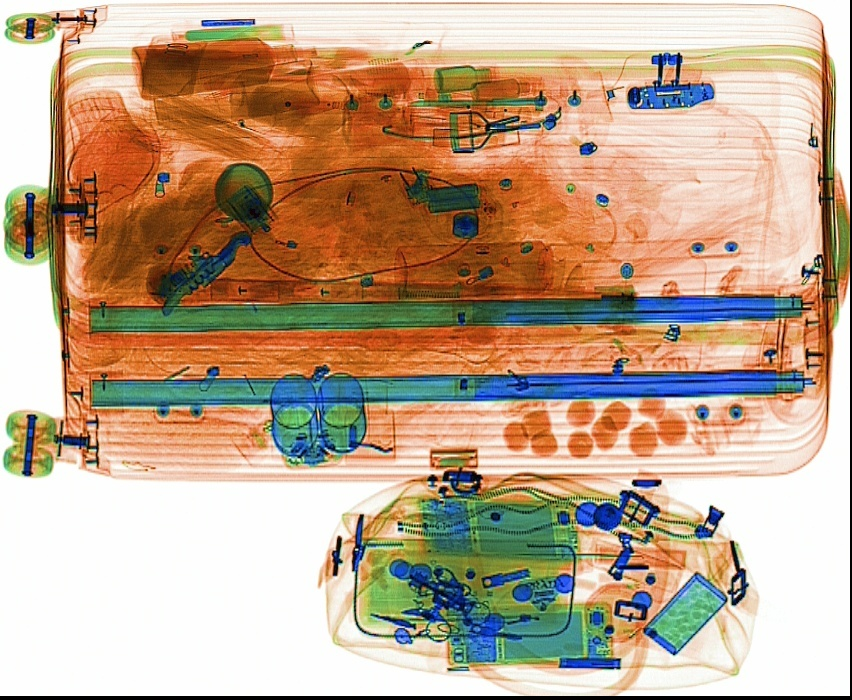knife: (161, 227, 252, 315)
